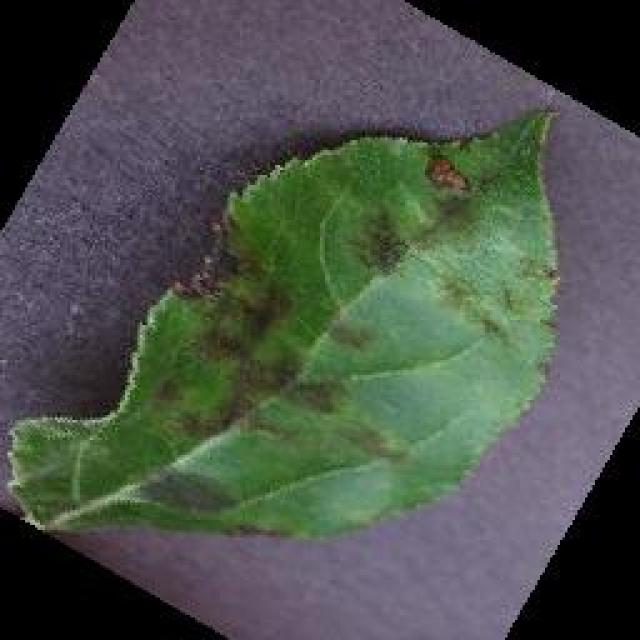apple scab disease: (2, 102, 562, 540)
